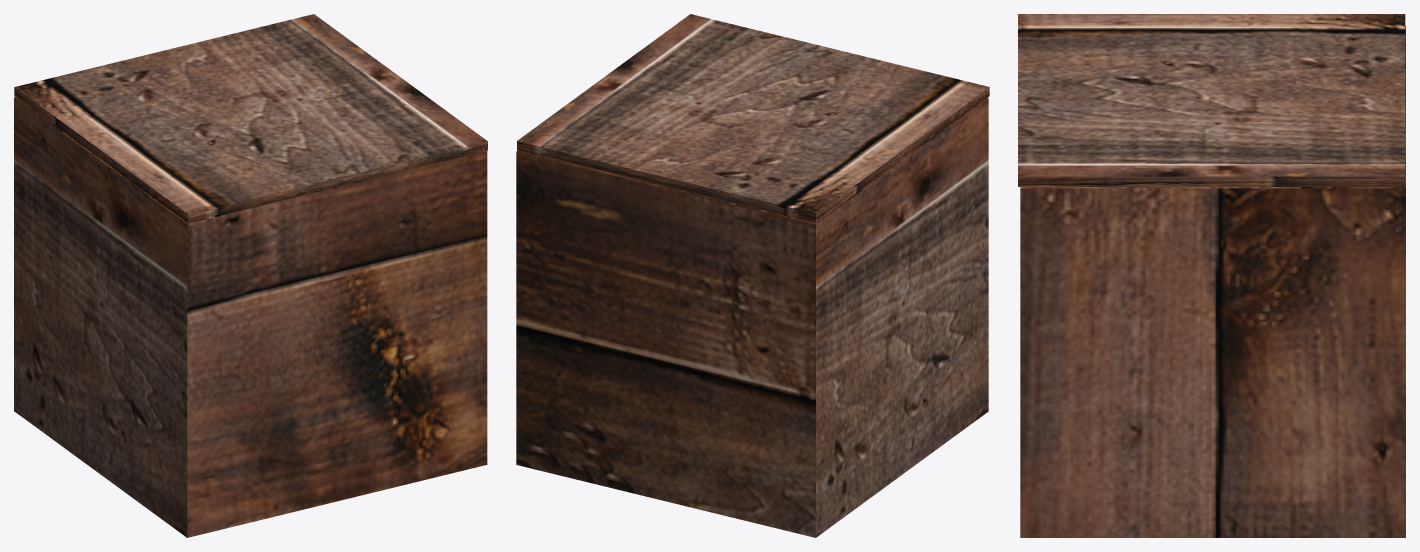
File: Crate.fbx
3 views of the same model, side by side, from view 1: azimuth 30°, elevation 25°; view 2: azimuth 150°, elevation 25°; view 3: azimuth 270°, elevation 25° (orthographic). The views are drawn at different scales.
Parts seen in each view (by area): view 1: pCube1, pCube2; view 2: pCube1, pCube2; view 3: pCube1, pCube2.
Part boxes in pixels (box(x1,y1,x2,y2)): pCube1: box(14, 97, 487, 537); pCube2: box(14, 14, 487, 223); pCube1: box(516, 97, 988, 537); pCube2: box(517, 14, 989, 222); pCube1: box(1020, 25, 1405, 537); pCube2: box(1018, 14, 1405, 186).
Size of the model in its own units: 7.7 by 7.96 by 7.74.
